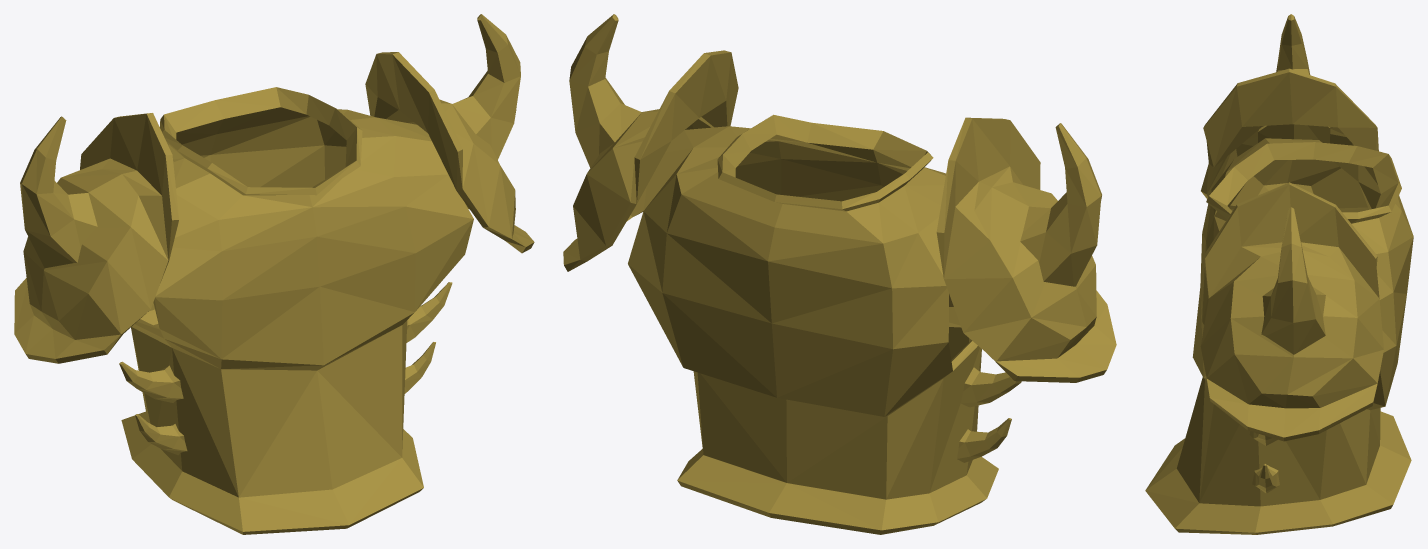
3 renders of one model, left to right at view 1: azimuth 30°, elevation 25°; view 2: azimuth 150°, elevation 25°; view 3: azimuth 270°, elevation 25°, orthographic. The views are drawn at different scales.
Parts seen in each view (by area): view 1: Armor_Golden_Cylinder.054; view 2: Armor_Golden_Cylinder.054; view 3: Armor_Golden_Cylinder.054.
Boxes of the visible parts, bbox=[...] form: Armor_Golden_Cylinder.054: bbox=[14, 14, 534, 534]; Armor_Golden_Cylinder.054: bbox=[563, 14, 1116, 534]; Armor_Golden_Cylinder.054: bbox=[1145, 14, 1413, 534].
Bounding box in the file's own units: 1.54 × 1.2 × 0.7595.
